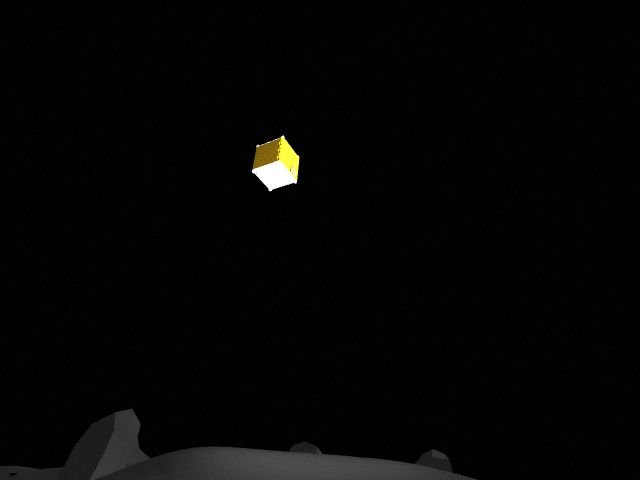cubesat: (249, 133, 302, 195)
